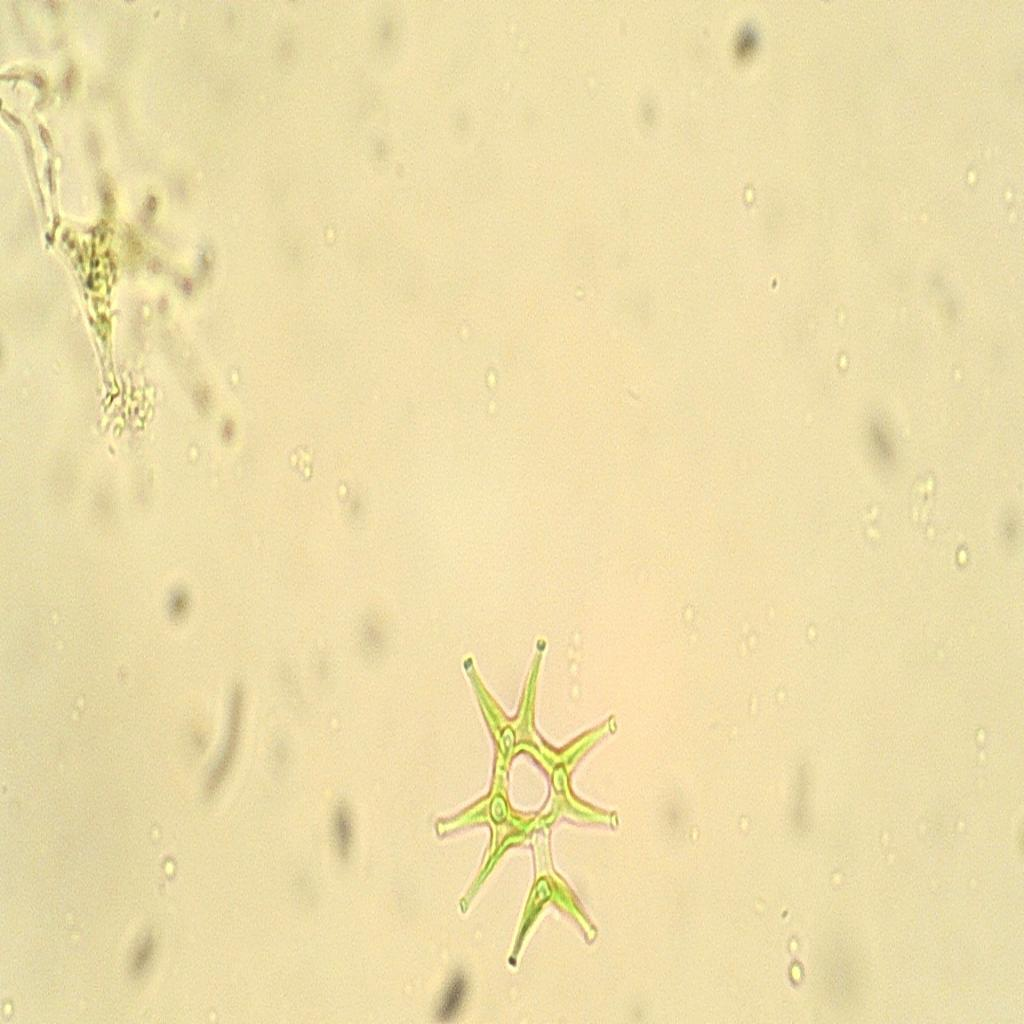Pediastrum_75FI: (418, 618, 636, 990)
